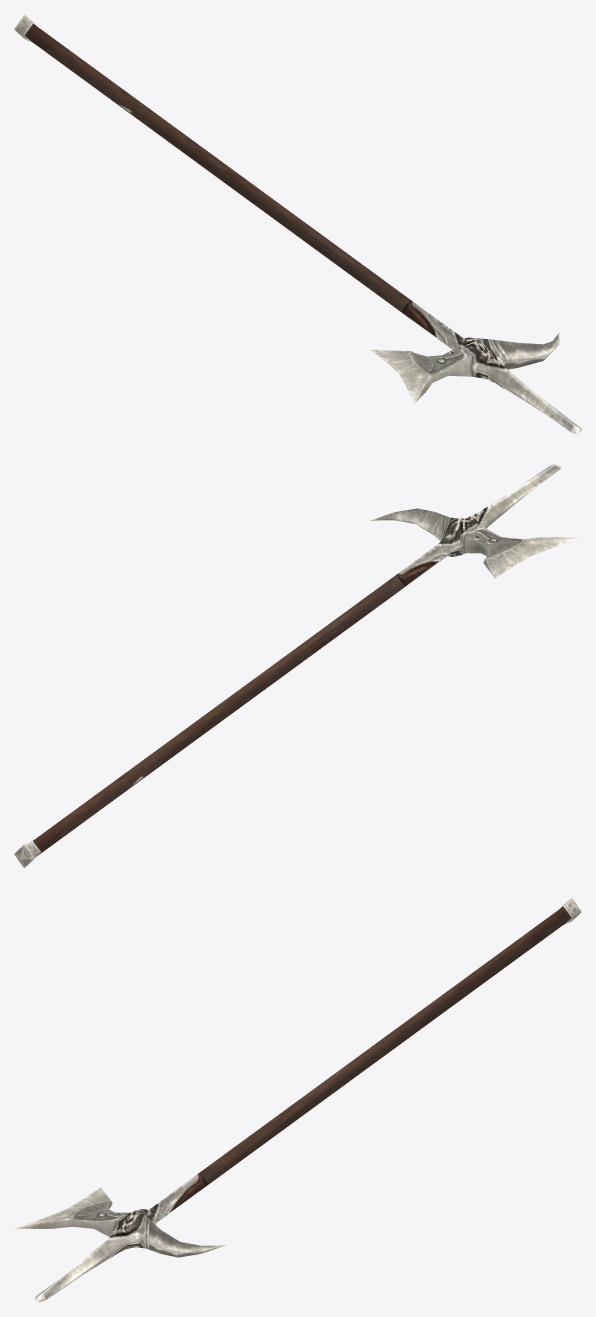
3 views of the same model, one above another, from view 1: azimuth 30°, elevation 25°; view 2: azimuth 150°, elevation 25°; view 3: azimuth 330°, elevation 25° (orthographic). The views are drawn at different scales.
Parts seen in each view (by area): view 1: i008001-; view 2: i008001-; view 3: i008001-.
Part boxes in pixels (x1,y1,x2,y2): i008001-: (14,14,581,434); i008001-: (14,463,581,868); i008001-: (14,897,581,1302).
Size of the model in its own units: 51.87 by 10.44 by 275.
1 material, 1 textured.
